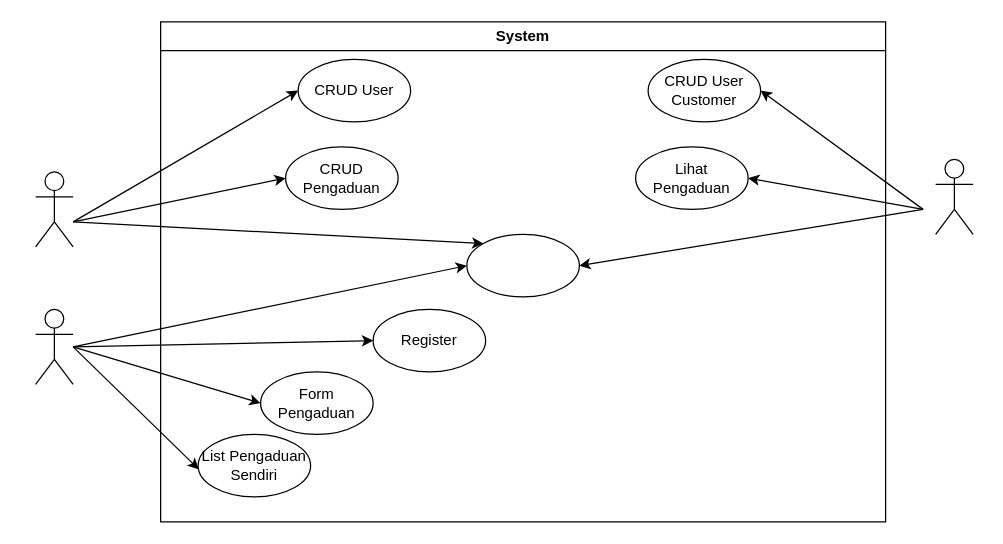
The diagram is 1003 pixels wide and 544 high, and some of its shapes have lost their labels. The shapes that lost their labels are listed below. From the top down, each one's box as (x1, y1, x2, y2) in pixels, then its label:
(34, 171, 73, 247): Admin
(934, 158, 973, 234): Petugas
(466, 233, 579, 297): Login
(34, 308, 73, 384): Customer
